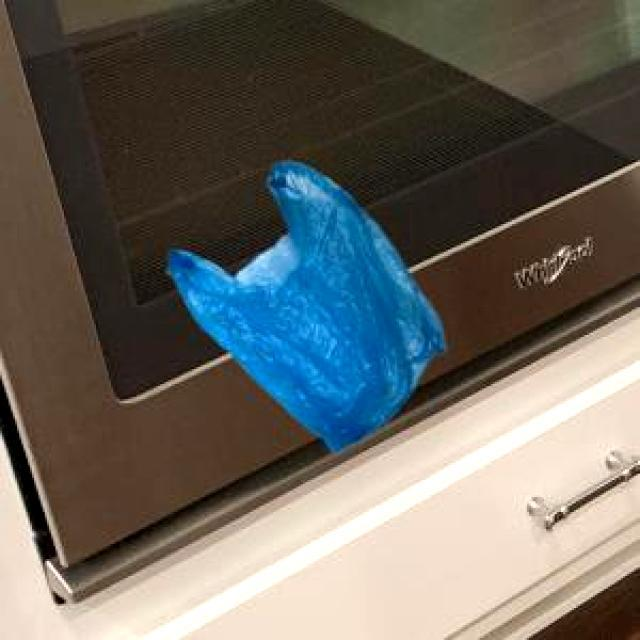Plastic_Bag: (165, 159, 443, 449)
